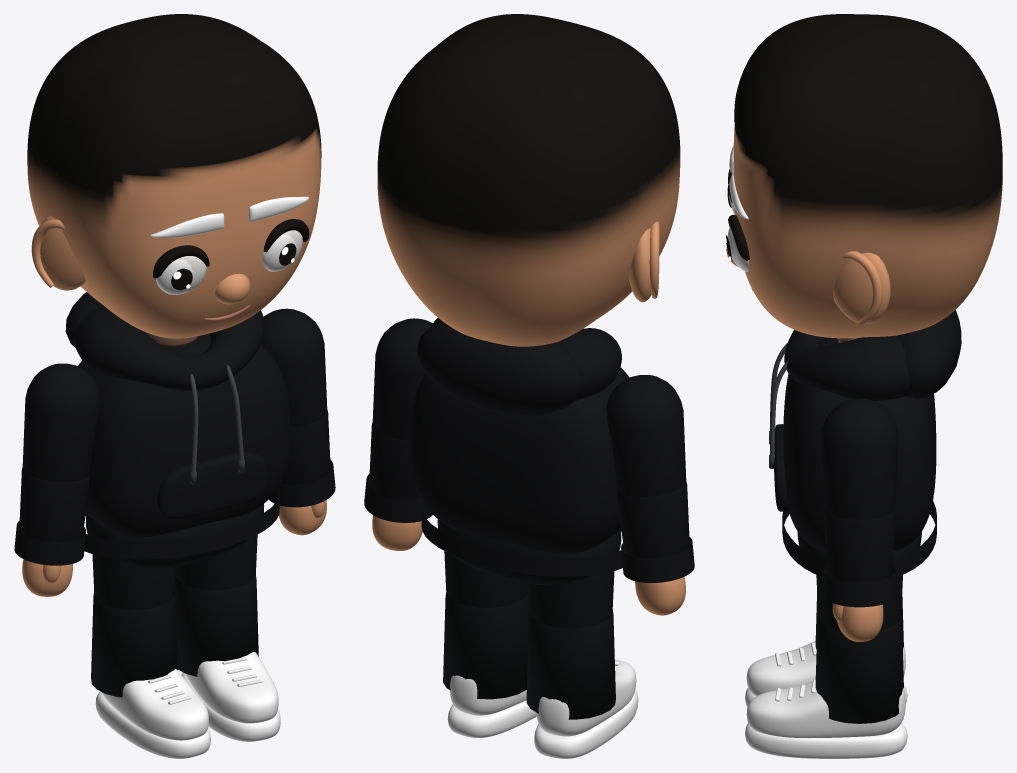
The model's file is hero-aipollon.glb.
3 renders of one model, left to right at view 1: azimuth 30°, elevation 25°; view 2: azimuth 150°, elevation 25°; view 3: azimuth 270°, elevation 25°, orthographic. The views are drawn at different scales.
Visible parts, largest first — view 1: Hero_head, Hero_torso, Hero_collar, Hero_upperR, Hero_shinR, Hero_shinL, Hero_upperL, Hero_pocket, Hero_shoeR, Hero_shoeL, Hero_foreR, Hero_hem (+20 smaller); view 2: Hero_head, Hero_torso, Hero_hood, Hero_upperR, Hero_shinR, Hero_shinL, Hero_upperL, Hero_foreR, Hero_hem, Hero_thighR, Hero_collar, Hero_thighL (+12 smaller); view 3: Hero_head, Hero_torso, Hero_upperL, Hero_shinL, Hero_collar, Hero_shoeL, Hero_foreL, Hero_hood, Hero_soleL, Hero_earL, Hero_shoeR, Hero_cuffL (+8 smaller).
Part boxes in pixels (x1=…): Hero_head: x1=27, y1=14, x2=321, y2=338; Hero_torso: x1=78, y1=333, x2=290, y2=537; Hero_collar: x1=74, y1=306, x2=264, y2=390; Hero_upperR: x1=22, y1=363, x2=100, y2=482; Hero_shinR: x1=91, y1=591, x2=177, y2=697; Hero_shinL: x1=174, y1=575, x2=258, y2=676; Hero_upperL: x1=261, y1=308, x2=327, y2=427; Hero_pocket: x1=157, y1=452, x2=267, y2=519; Hero_shoeR: x1=102, y1=668, x2=208, y2=740; Hero_shoeL: x1=185, y1=652, x2=278, y2=723; Hero_foreR: x1=19, y1=466, x2=89, y2=541; Hero_hem: x1=82, y1=488, x2=279, y2=559; Hero_head: x1=377, y1=14, x2=680, y2=346; Hero_torso: x1=410, y1=367, x2=629, y2=553; Hero_hood: x1=417, y1=321, x2=583, y2=415; Hero_upperR: x1=606, y1=375, x2=686, y2=496; Hero_shinR: x1=526, y1=610, x2=615, y2=719; Hero_shinL: x1=443, y1=592, x2=529, y2=699; Hero_upperL: x1=372, y1=318, x2=432, y2=440; Hero_foreR: x1=617, y1=481, x2=689, y2=558; Hero_hem: x1=421, y1=503, x2=624, y2=576; Hero_thighR: x1=528, y1=571, x2=614, y2=628; Hero_collar: x1=431, y1=318, x2=621, y2=400; Hero_thighL: x1=444, y1=551, x2=528, y2=607; Hero_head: x1=733, y1=14, x2=1002, y2=338; Hero_torso: x1=783, y1=337, x2=936, y2=550; Hero_upperL: x1=820, y1=398, x2=898, y2=519; Hero_shinL: x1=815, y1=616, x2=903, y2=723; Hero_collar: x1=784, y1=329, x2=961, y2=400; Hero_shoeL: x1=746, y1=681, x2=905, y2=737; Hero_foreL: x1=824, y1=508, x2=895, y2=582; Hero_hood: x1=897, y1=310, x2=961, y2=398; Hero_soleL: x1=745, y1=723, x2=907, y2=758; Hero_earL: x1=832, y1=252, x2=890, y2=323; Hero_shoeR: x1=746, y1=641, x2=905, y2=696; Hero_cuffL: x1=824, y1=566, x2=895, y2=607.
Bounding box in the file's own units: 0.8425 × 1.75 × 0.6386.
